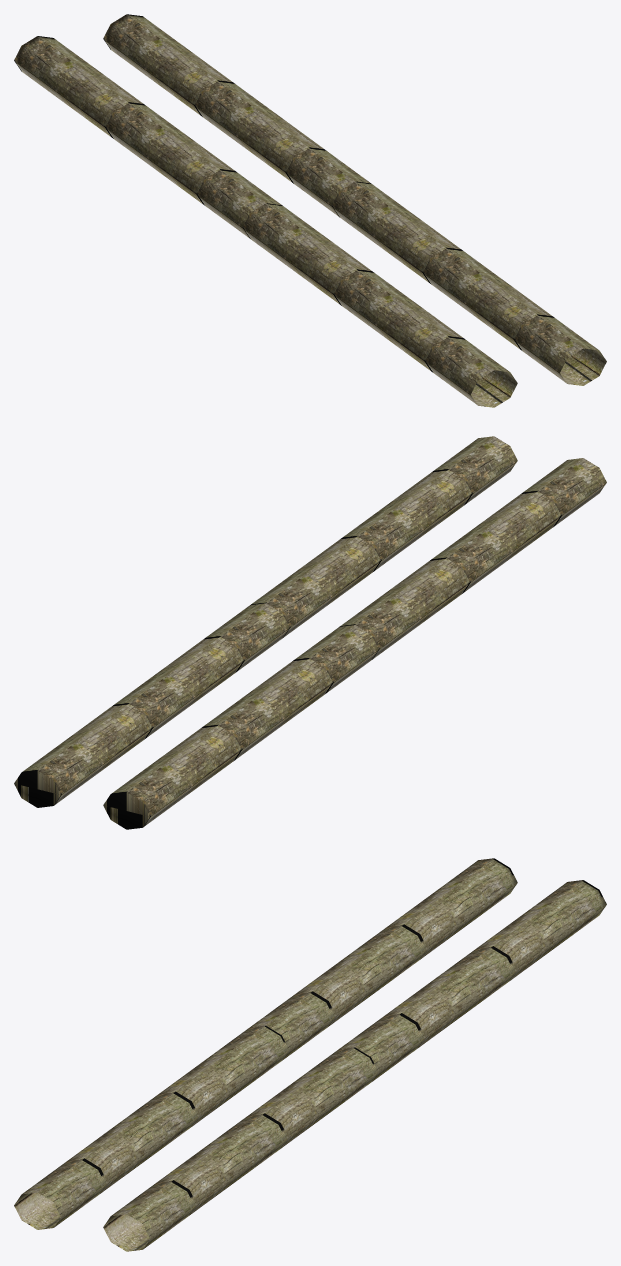
Rendered from Pipe-4.fbx.
3 renders of one model, top to bottom at view 1: azimuth 30°, elevation 25°; view 2: azimuth 150°, elevation 25°; view 3: azimuth 330°, elevation 25°, orthographic.
Parts seen in each view (by area): view 1: pipe_001, Object001; view 2: pipe_001, Object001; view 3: pipe_001, Object001.
Boxes of the visible parts, <box> form: pipe_001: <box>103,14,606,385</box>; Object001: <box>14,36,517,407</box>; pipe_001: <box>14,436,517,807</box>; Object001: <box>103,458,606,829</box>; pipe_001: <box>103,880,606,1251</box>; Object001: <box>14,858,517,1229</box>.
Bounding box in the file's own units: 79.42 × 20.89 × 461.
